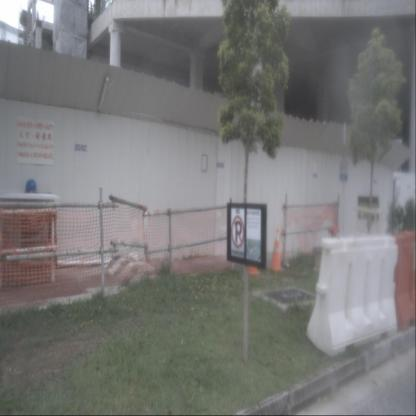movable_object-barrier: (307, 235, 398, 357), (392, 233, 416, 331)
movable_object-trafficcone: (245, 224, 261, 276), (268, 228, 284, 272)
